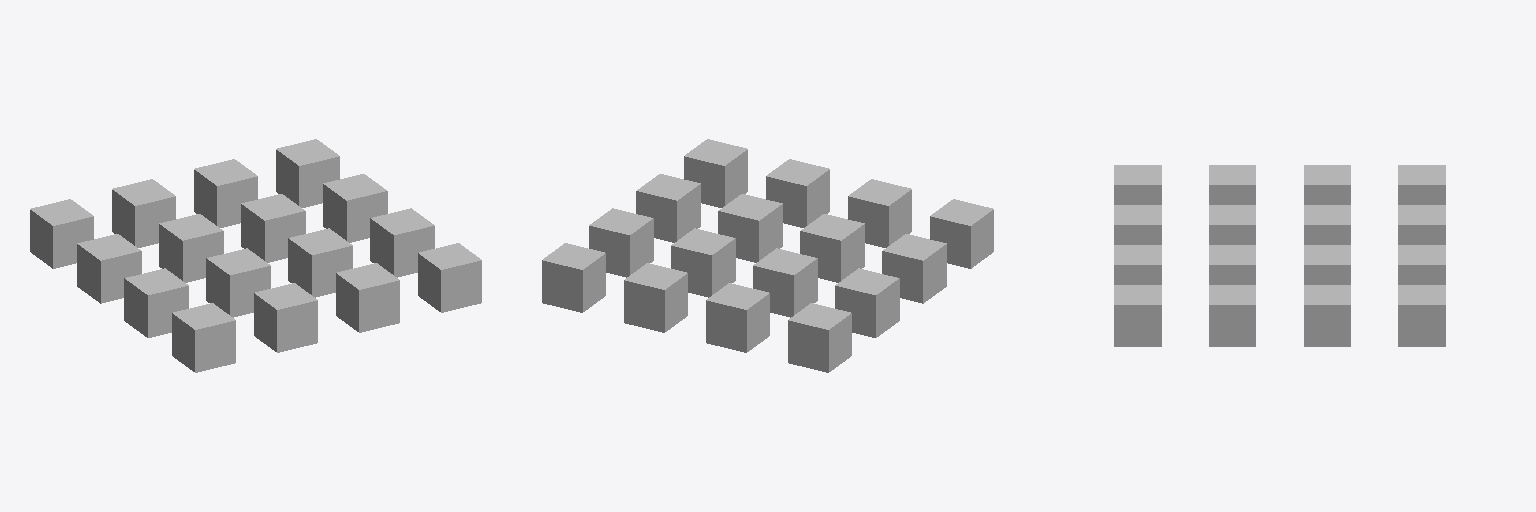
File: cubes.obj
3 renders of one model, left to right at view 1: azimuth 30°, elevation 25°; view 2: azimuth 150°, elevation 25°; view 3: azimuth 270°, elevation 25°, orthographic.
Visible parts, largest first — view 1: Cube; view 2: Cube; view 3: Cube.
Part boxes in pixels (x1,y1,x2,y2): Cube: (30,139,481,372); Cube: (542,139,993,372); Cube: (1114,165,1445,346).
Size of the model in its own units: 7 by 1 by 7.